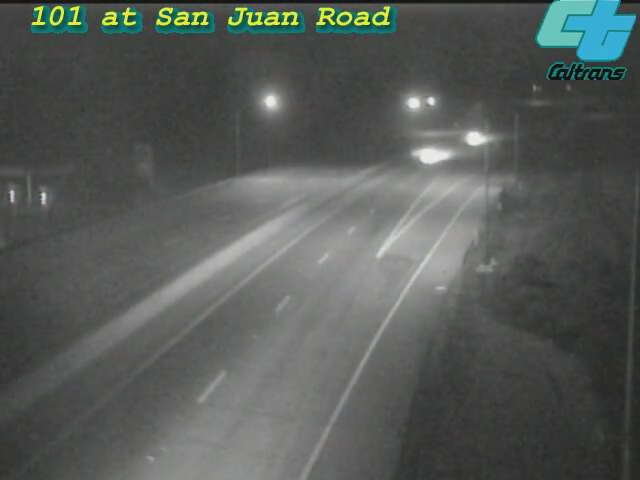vehicle: (450, 113, 500, 163), (402, 133, 452, 183)
